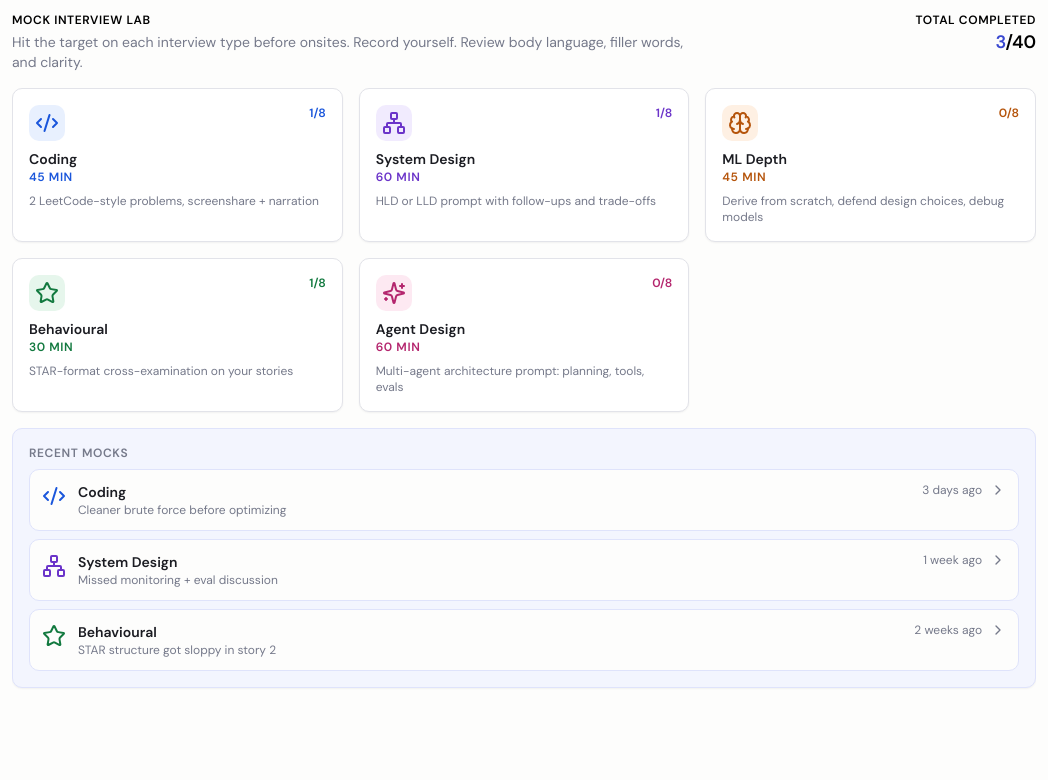
Scenario: MockInterviewLab behavioural session › starts the live behavioural screen with tailored prompt and checklist
The width and height of the screenshot is (1048, 780).
Click the button with aria-label "Start Behavioural". click: (47, 293)
box: [12,258,343,412]
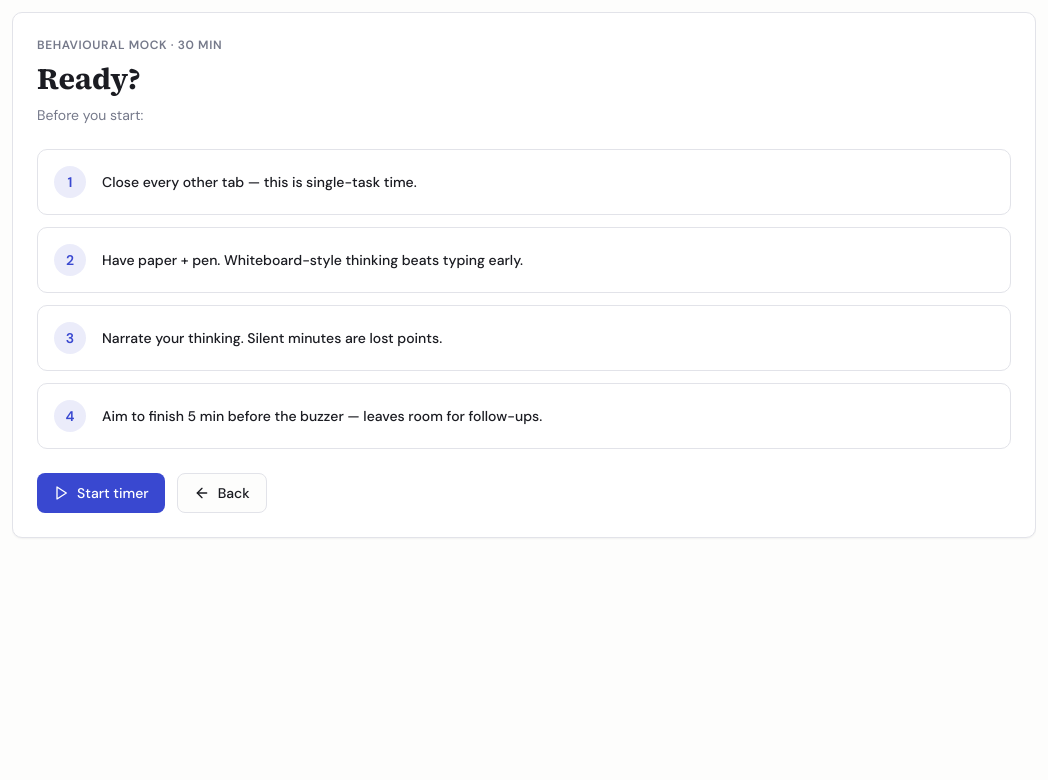
Click the button "Start timer". click: (101, 493)
box: [37,473,165,513]
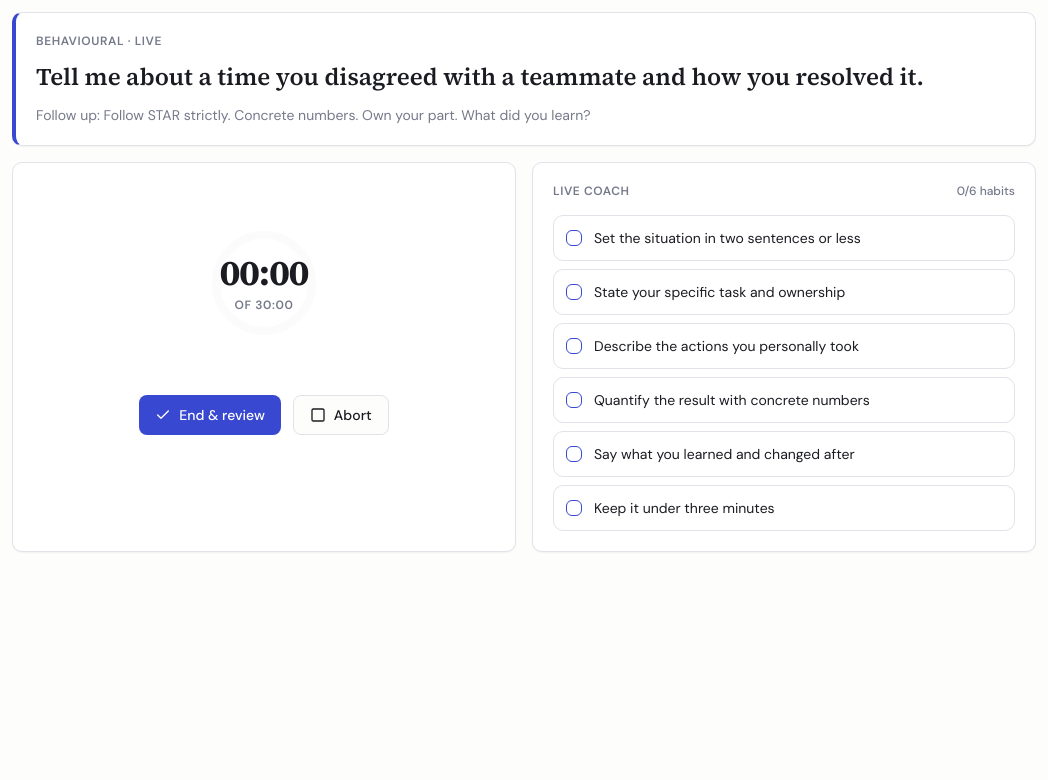
Now the text "Behavioural · Live" is shown, box [36,33,162,49]
Now the heading "Tell me about a time you disagreed with a teammate" is shown, box [36,61,1015,93]
Now the text "Follow STAR strictly" is shown, box [104,106,590,124]
